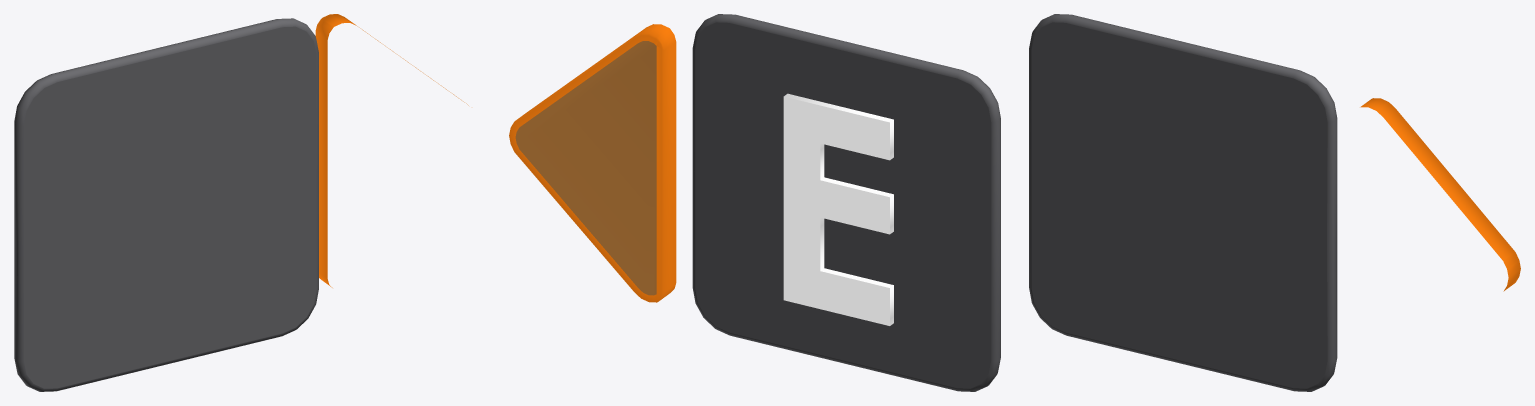
Rendered from hover_arrow_E.glb.
3 views of the same model, side by side, from view 1: azimuth 30°, elevation 25°; view 2: azimuth 150°, elevation 25°; view 3: azimuth 330°, elevation 25° (orthographic).
Visible parts, largest first — view 1: menu_card_bg.002, Cube.006; view 2: menu_card_bg.002, Cube.006, E; view 3: menu_card_bg.002, Cube.006.
Boxes of the visible parts, <box> form: menu_card_bg.002: <box>14,18,318,391</box>; Cube.006: <box>315,14,468,287</box>; menu_card_bg.002: <box>692,14,1000,391</box>; Cube.006: <box>509,24,676,302</box>; E: <box>783,93,893,325</box>; menu_card_bg.002: <box>1029,14,1337,391</box>; Cube.006: <box>1360,98,1520,291</box>.
Size of the model in its own units: 1.55 by 0.9972 by 0.1136.
3 materials, 3 textured.
